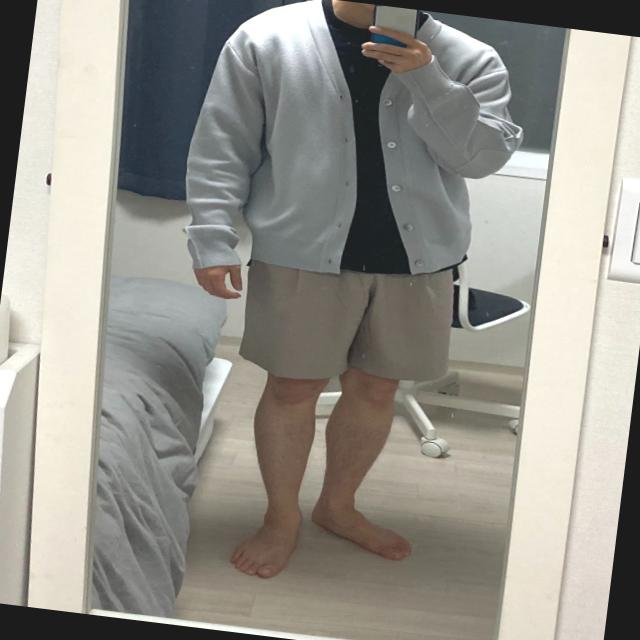cardigan: (170, 0, 537, 307)
shortpants: (232, 231, 458, 393)
